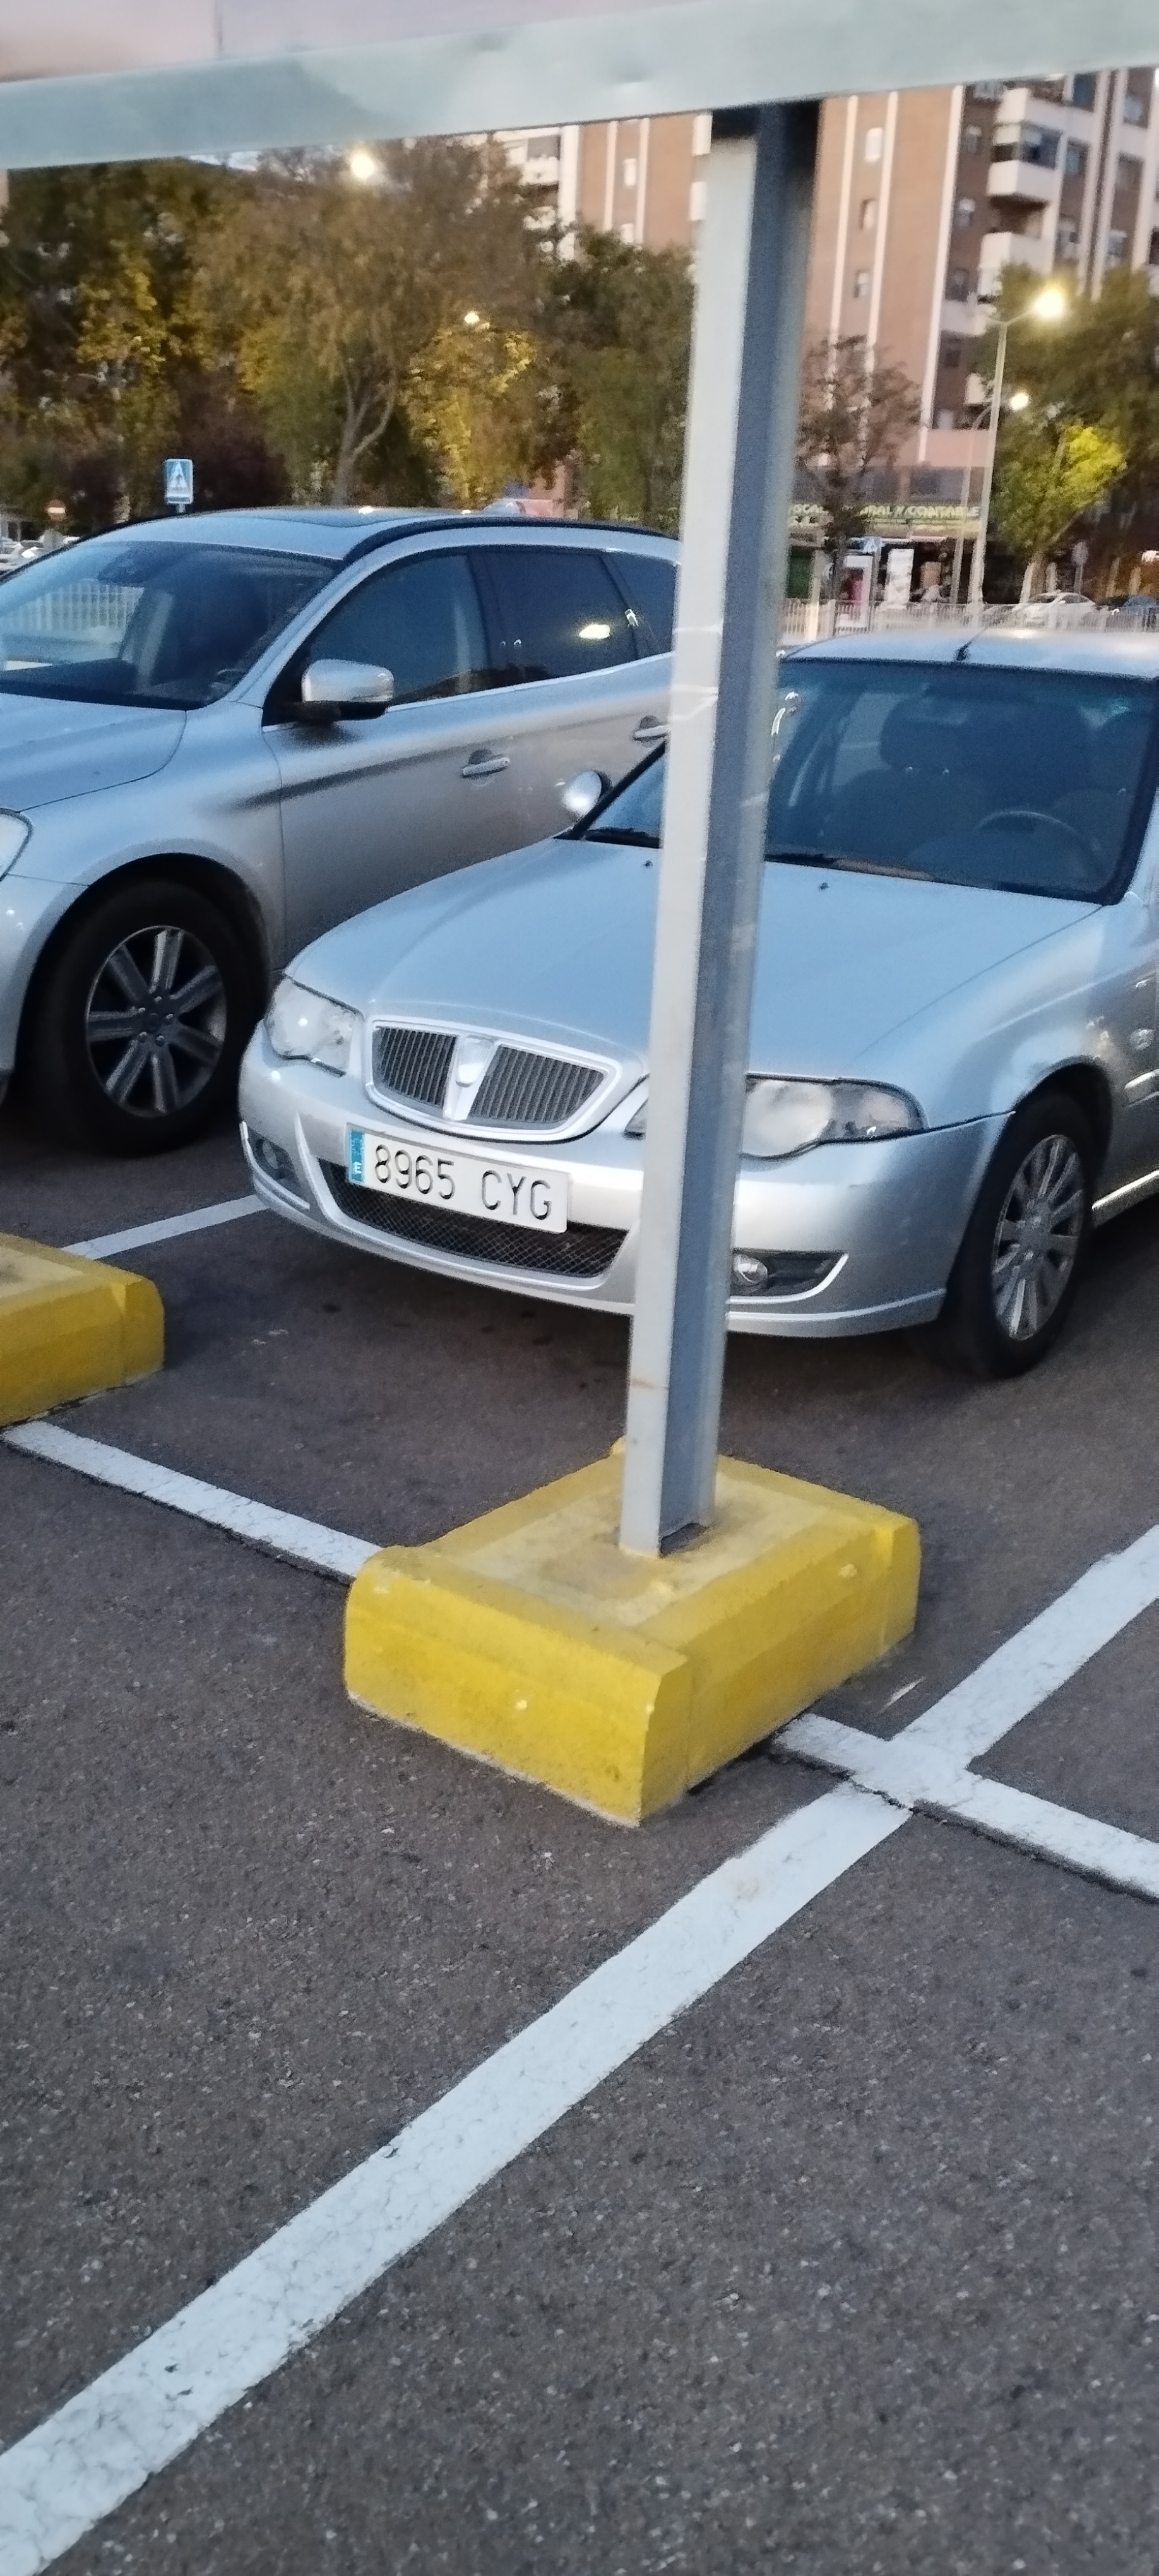Car: (244, 623, 1158, 1377)
Plate: (350, 1130, 569, 1186)
